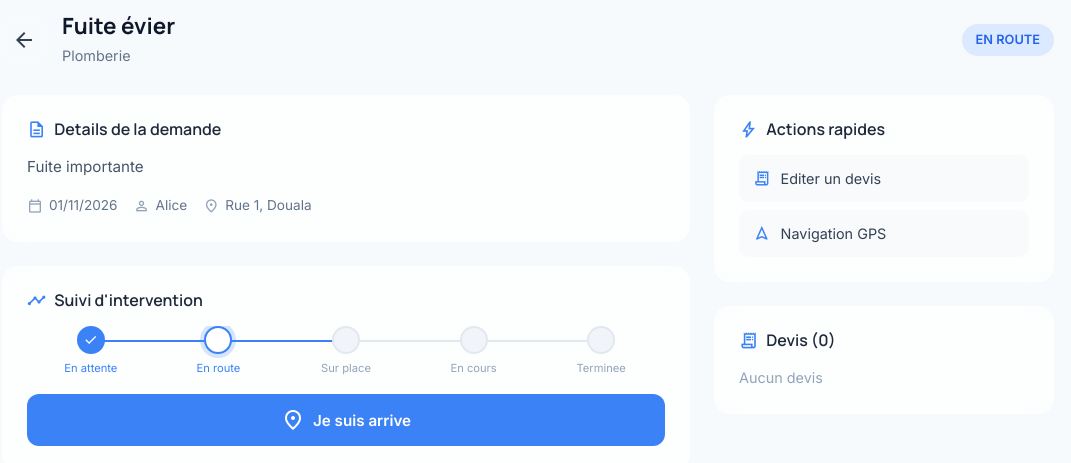
Scenario: MissionDetail › depuis « en_route », l'action « Je suis arrive » demande le statut « arrived »
Click the button "Je suis arrive" at (346, 420), box [27,394,665,446]
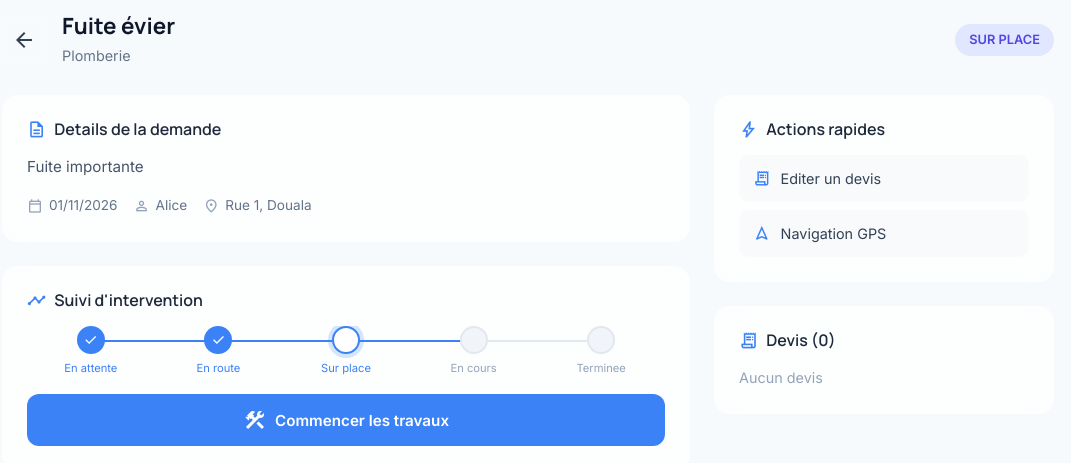
Check: the text with class "md-status-pill" reads "Sur place", box [969,32,1040,47]
